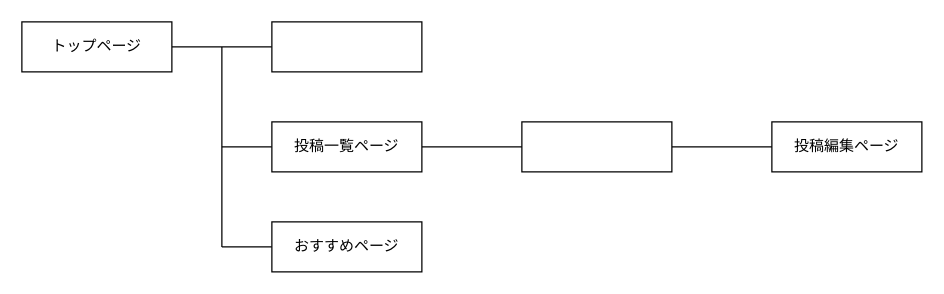
The diagram is 944 pixels wide and 294 high, and some of its shapes have lost their labels. Here are the shapes that lost their labels. From the top down, the centre of each, then its label:
At (346,46): "投稿ページ".
At (596,146): "投稿詳細ページ".
